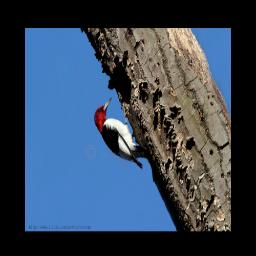Woodpecker: (87, 93, 155, 174)
